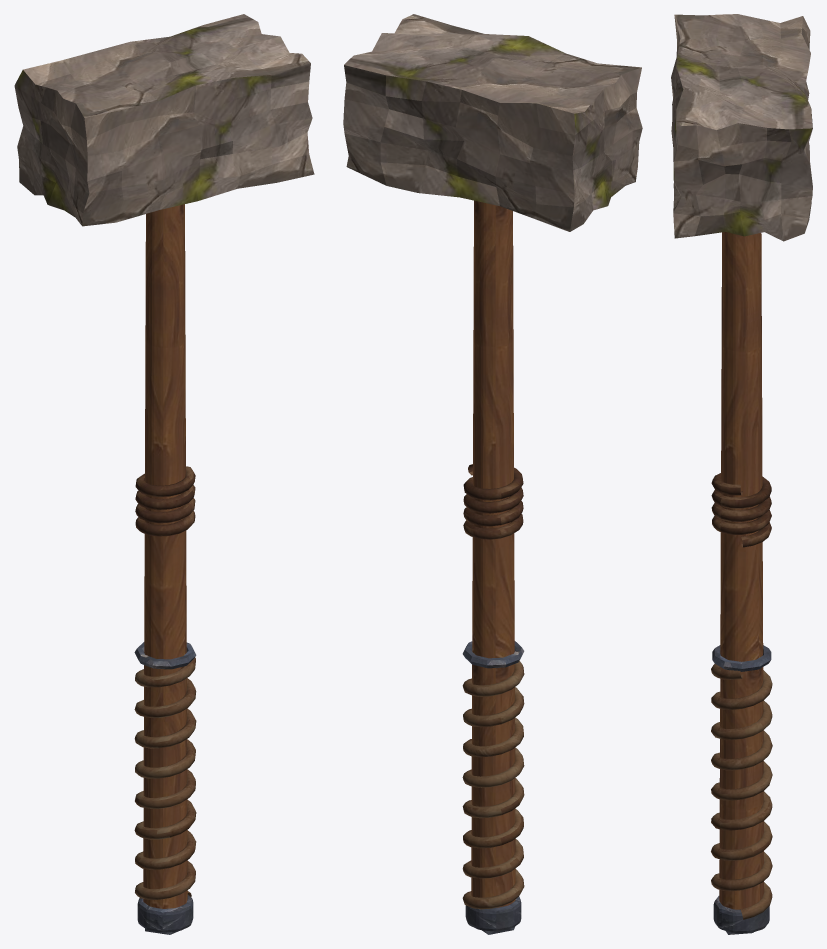
The model's file is mace_2h_stone.glb.
The picture shows the model from 3 angles, left to right: view 1: azimuth 30°, elevation 25°; view 2: azimuth 150°, elevation 25°; view 3: azimuth 270°, elevation 25°; orthographic projection.
Visible parts, largest first — view 1: model; view 2: model; view 3: model.
Boxes of the visible parts, x1,y1,x2,y2 form: model: (14, 14, 314, 934); model: (343, 14, 642, 934); model: (671, 14, 812, 934).
Size of the model in its own units: 0.3719 by 1.32 by 0.1971.
Materials: 6 (6 with a texture image).
